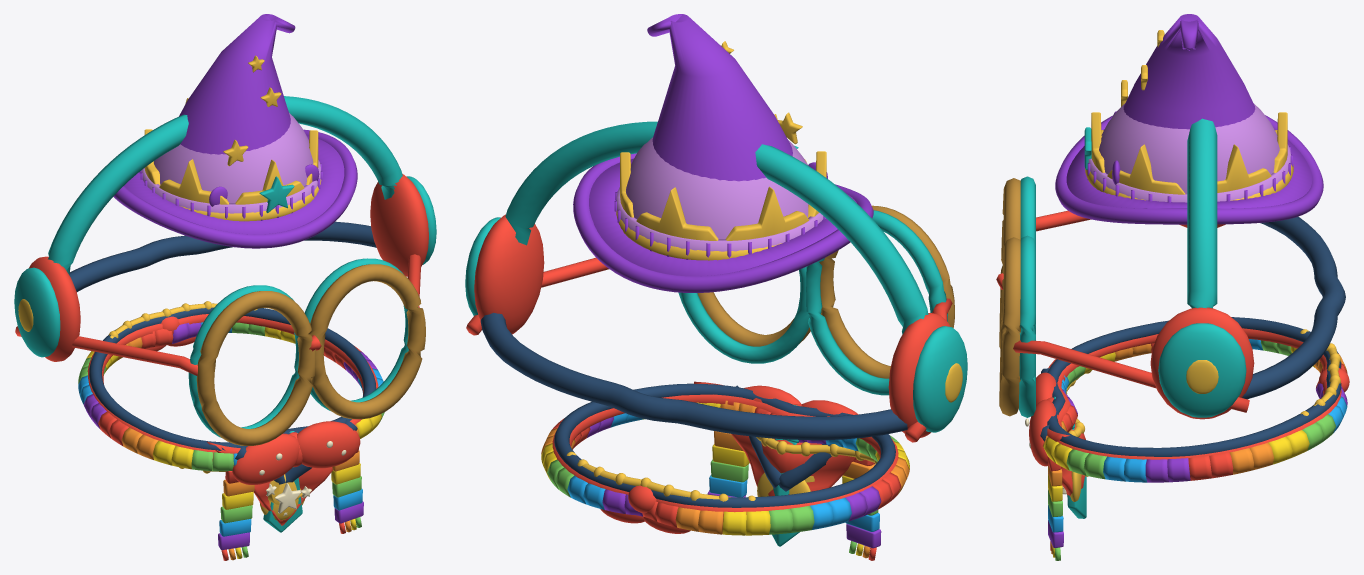
Rendered from luna-wearables.glb.
3 renders of one model, left to right at view 1: azimuth 30°, elevation 25°; view 2: azimuth 150°, elevation 25°; view 3: azimuth 270°, elevation 25°, orthographic. The views are drawn at different scales.
Visible parts, largest first — view 1: wizard_Wearables_violet, goggles_Wearables_brass, headphones_Wearables_teal, beanie_Wearables_lilac, headphones_Wearables_coral, medal_Wearables_navy, bowtie_Wearables_coral, goggles_Wearables_navy, goggles_Wearables_teal, bandana_Wearables_coral, crown_Wearables_gold, scarf_Wearables_yellow_yarn (+10 smaller); view 2: wizard_Wearables_violet, headphones_Wearables_teal, goggles_Wearables_navy, beanie_Wearables_lilac, headphones_Wearables_coral, goggles_Wearables_teal, medal_Wearables_navy, bandana_Wearables_coral, crown_Wearables_gold, goggles_Wearables_brass, scarf_Wearables_blue, scarf_Wearables_green (+8 smaller); view 3: wizard_Wearables_violet, headphones_Wearables_teal, beanie_Wearables_lilac, medal_Wearables_navy, goggles_Wearables_navy, goggles_Wearables_brass, crown_Wearables_gold, goggles_Wearables_teal, bandana_Wearables_coral, glasses_Wearables_coral, headphones_Wearables_coral, scarf_Wearables_green (+10 smaller).
Part boxes in pixels (x1=…): wizard_Wearables_violet: x1=113, y1=14, x2=357, y2=248; goggles_Wearables_brass: x1=196, y1=264, x2=425, y2=445; headphones_Wearables_teal: x1=14, y1=96, x2=436, y2=357; beanie_Wearables_lilac: x1=141, y1=113, x2=320, y2=213; headphones_Wearables_coral: x1=29, y1=174, x2=428, y2=361; medal_Wearables_navy: x1=89, y1=307, x2=376, y2=484; bowtie_Wearables_coral: x1=232, y1=421, x2=360, y2=484; goggles_Wearables_navy: x1=69, y1=221, x2=376, y2=291; goggles_Wearables_teal: x1=188, y1=258, x2=408, y2=437; bandana_Wearables_coral: x1=87, y1=314, x2=378, y2=525; crown_Wearables_gold: x1=144, y1=98, x2=321, y2=221; scarf_Wearables_yellow_yarn: x1=86, y1=327, x2=382, y2=558; wizard_Wearables_violet: x1=573, y1=14, x2=873, y2=292; headphones_Wearables_teal: x1=465, y1=121, x2=967, y2=432; goggles_Wearables_navy: x1=480, y1=312, x2=907, y2=440; beanie_Wearables_lilac: x1=616, y1=137, x2=823, y2=251; headphones_Wearables_coral: x1=474, y1=214, x2=950, y2=437; goggles_Wearables_teal: x1=678, y1=210, x2=947, y2=395; medal_Wearables_navy: x1=554, y1=383, x2=895, y2=507; bandana_Wearables_coral: x1=552, y1=381, x2=898, y2=533; crown_Wearables_gold: x1=616, y1=114, x2=826, y2=260; goggles_Wearables_brass: x1=697, y1=205, x2=954, y2=378; scarf_Wearables_blue: x1=567, y1=413, x2=879, y2=531; scarf_Wearables_green: x1=547, y1=418, x2=898, y2=553; wizard_Wearables_violet: x1=1055, y1=14, x2=1323, y2=224; headphones_Wearables_teal: x1=1158, y1=118, x2=1246, y2=417; beanie_Wearables_lilac: x1=1088, y1=103, x2=1290, y2=202; medal_Wearables_navy: x1=1040, y1=317, x2=1341, y2=456; goggles_Wearables_navy: x1=1242, y1=216, x2=1345, y2=399; goggles_Wearables_brass: x1=999, y1=178, x2=1020, y2=416; crown_Wearables_gold: x1=1085, y1=112, x2=1293, y2=200; goggles_Wearables_teal: x1=1019, y1=176, x2=1035, y2=417; bandana_Wearables_coral: x1=1047, y1=328, x2=1349, y2=495; glasses_Wearables_coral: x1=996, y1=210, x2=1249, y2=412; headphones_Wearables_coral: x1=1150, y1=224, x2=1254, y2=419; scarf_Wearables_green: x1=1048, y1=340, x2=1335, y2=560.
Size of the model in its own units: 3.98 by 4.47 by 2.72.
